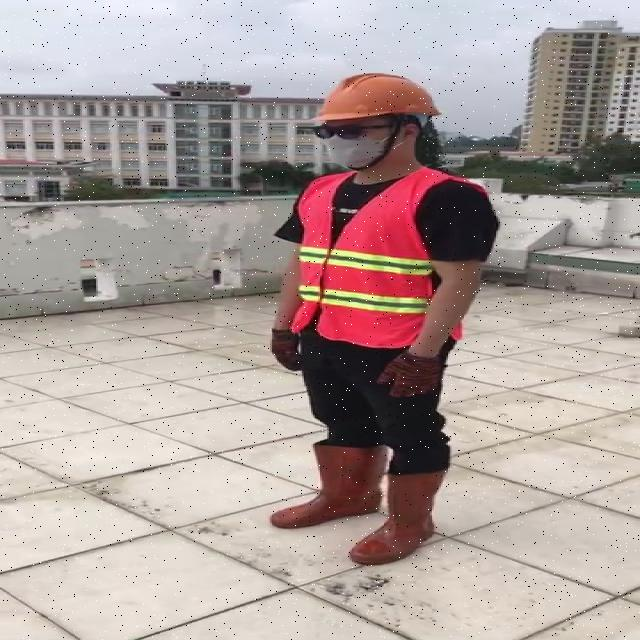Hard_hat: (303, 68, 447, 136)
Person: (259, 60, 497, 575)
Vest: (295, 163, 441, 343)
